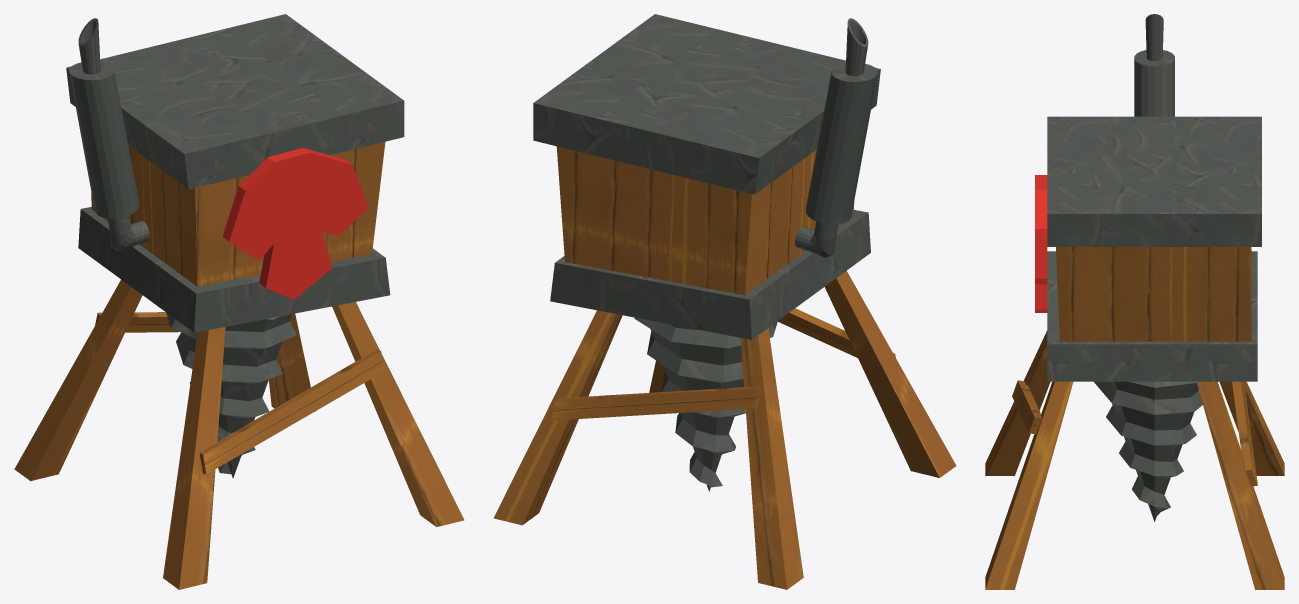
The model's file is Drill Final.fbx.
3 views of the same model, side by side, from view 1: azimuth 30°, elevation 25°; view 2: azimuth 150°, elevation 25°; view 3: azimuth 270°, elevation 25° (orthographic). The views are drawn at different scales.
Visible parts, largest first — view 1: Cube.007, Cube.008, Cube.009, Cylinder, Mesh.001, Cube.010, Cube.011; view 2: Cube.007, Cube.008, Cylinder, Mesh.001, Cube.011, Cube.010; view 3: Cube.007, Cube.008, Mesh.001, Cylinder, Cube.009, Cube.011, Cube.010.
Boxes of the visible parts, <box> form: Cube.007: <box>66,14,404,332</box>; Cube.008: <box>14,279,464,589</box>; Cube.009: <box>222,148,368,299</box>; Cylinder: <box>69,18,149,250</box>; Mesh.001: <box>166,312,296,478</box>; Cube.010: <box>199,349,384,474</box>; Cube.011: <box>95,312,178,332</box>; Cube.007: <box>533,14,880,339</box>; Cube.008: <box>494,271,956,589</box>; Cylinder: <box>795,18,877,257</box>; Mesh.001: <box>634,317,777,491</box>; Cube.011: <box>551,386,761,420</box>; Cube.010: <box>778,308,895,357</box>; Cube.007: <box>1047,116,1261,381</box>; Cube.008: <box>985,330,1284,589</box>; Mesh.001: <box>1094,381,1202,521</box>; Cylinder: <box>1134,14,1174,116</box>; Cube.009: <box>1035,175,1047,312</box>; Cube.011: <box>1232,381,1257,486</box>; Cube.010: <box>1012,380,1042,434</box>.
Size of the model in its own units: 478 by 764 by 456.
3 materials, 2 textured.
